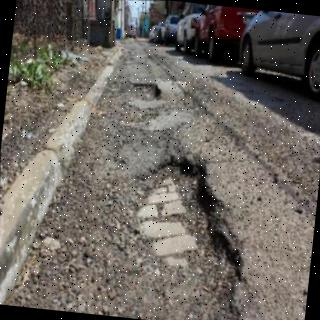pothole: (136, 162, 254, 320), (132, 82, 161, 102)
